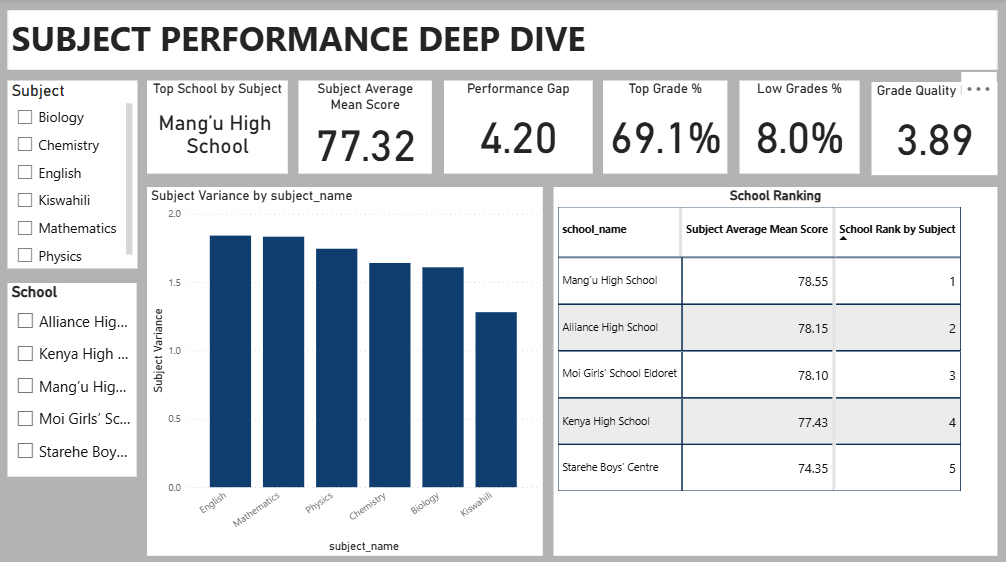

Layout of this report page (visuals, bound fields, positions):
{"tool":"powerbi","page":{"name":"Subject Performance","canvas":[1280,720],"ordinal":2},"visuals":[{"type":"card","title":"Subject Average Mean Score","fields":{"Values":["School.Subject Average Mean Score"]},"box":[379.8,103.9,168.2,117.2],"z":0},{"type":"slicer","title":"Subject","fields":{"Values":["Subjects.subject_name"]},"box":[13.2,103.9,162.5,236.2],"z":1000},{"type":"card","title":"Top School by Subject","fields":{"Values":["School.Top School by Subject"]},"box":[189,103.9,177.6,117.2],"z":2000},{"type":"card","title":"Performance Gap","fields":{"Values":["School.Subject Performance Gap"]},"box":[563.2,103.9,187.1,117.2],"z":3000},{"type":"pivotTable","title":"School Ranking","fields":{"Rows":["School.school_name"],"Values":["School.Subject Average Mean Score","School.School Rank by Subject"]},"box":[701.1,238.1,559.4,464.9],"z":4000},{"type":"clusteredColumnChart","fields":{"Category":["Subjects.subject_name"],"Y":["School.Subject Variance"]},"box":[189,238.1,498.9,464.9],"z":5000},{"type":"card","title":"Low Grades %","fields":{"Values":["School.Lower Grades %"]},"box":[935.4,103.9,151.2,117.2],"z":6000},{"type":"card","title":"Top Grade %","fields":{"Values":["School.Top Grades % (Positive)"]},"box":[763.5,103.9,156.9,117.2],"z":7000},{"type":"card","title":"Grade Quality Index","fields":{"Values":["School.Grade Quality Index"]},"box":[1101.7,105.8,158.7,117.2],"z":8000},{"type":"slicer","title":"School","fields":{"Values":["School.school_name"]},"box":[13.2,359.1,162.5,243.8],"z":9000},{"type":"textbox","box":[13.2,15.1,1247.3,75.6],"z":10000}]}

Visuals, with their boxes in screenshot pixels (x1, y1, x2, y2), scaled from the page's 1280x720 canvas onto the 1006x562 screenshot:
"Subject Average Mean Score" card: 298:81:431:173
"Subject" slicer: 10:81:138:265
"Top School by Subject" card: 149:81:288:173
"Performance Gap" card: 443:81:590:173
"School Ranking" pivotTable: 551:186:991:549
clusteredColumnChart - Subjects.subject_name x School.Subject Variance: 149:186:541:549
"Low Grades %" card: 735:81:854:173
"Top Grade %" card: 600:81:723:173
"Grade Quality Index" card: 866:83:991:174
"School" slicer: 10:280:138:471
textbox: 10:12:991:71
